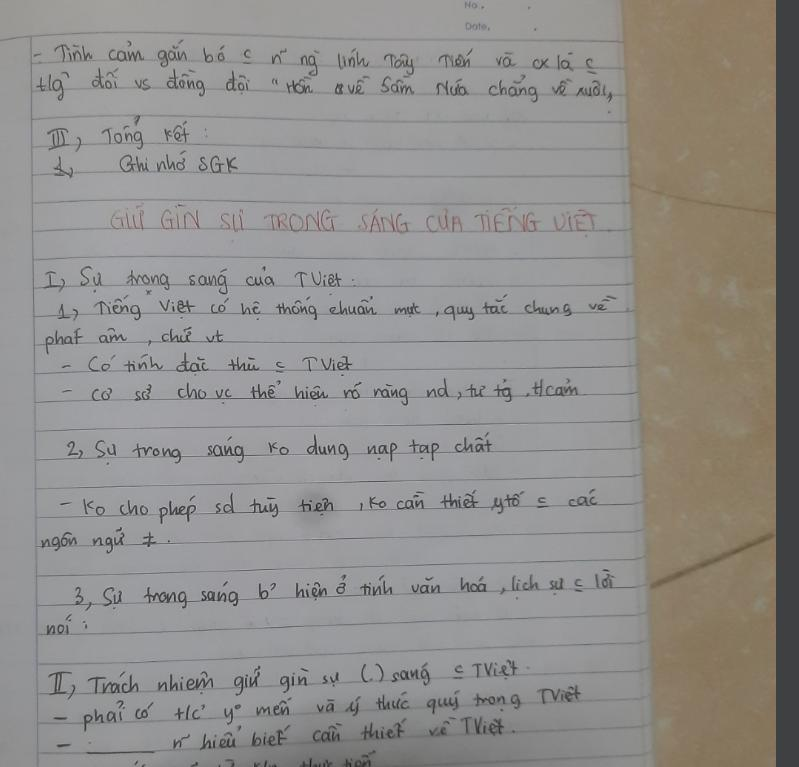text: (50, 681, 582, 735), (71, 565, 617, 614), (29, 35, 600, 77), (58, 484, 600, 528), (54, 712, 516, 759), (33, 66, 616, 103), (44, 655, 520, 699), (54, 292, 618, 325), (59, 375, 581, 409), (64, 427, 495, 468), (109, 201, 600, 236), (42, 264, 357, 298), (59, 353, 356, 378), (46, 111, 193, 156), (41, 326, 226, 357), (121, 746, 385, 767), (36, 526, 160, 558), (115, 147, 241, 176), (43, 611, 89, 638), (49, 154, 77, 179), (464, 18, 491, 34), (464, 0, 480, 12)
